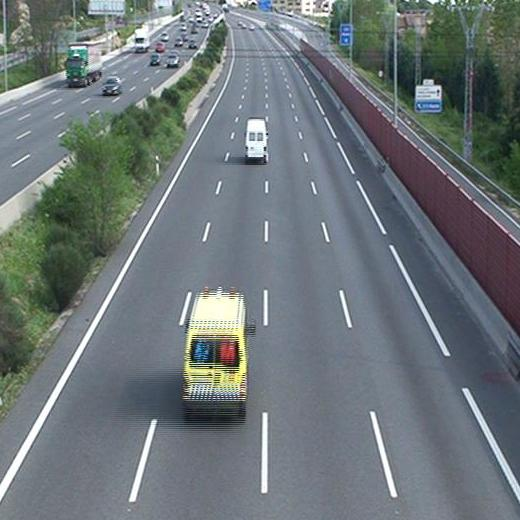van: (182, 289, 255, 420), (243, 119, 268, 163)
